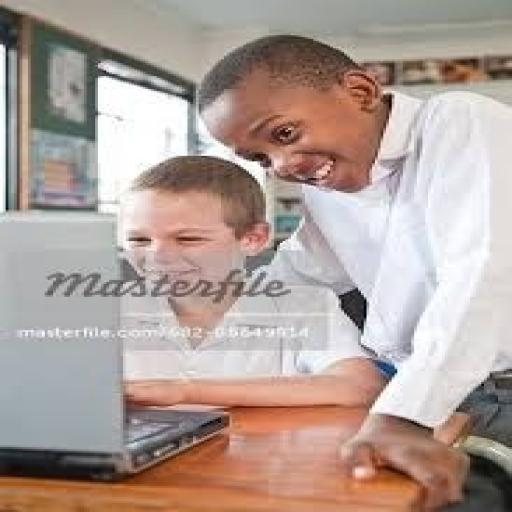using_laptop: (0, 210, 232, 482)
